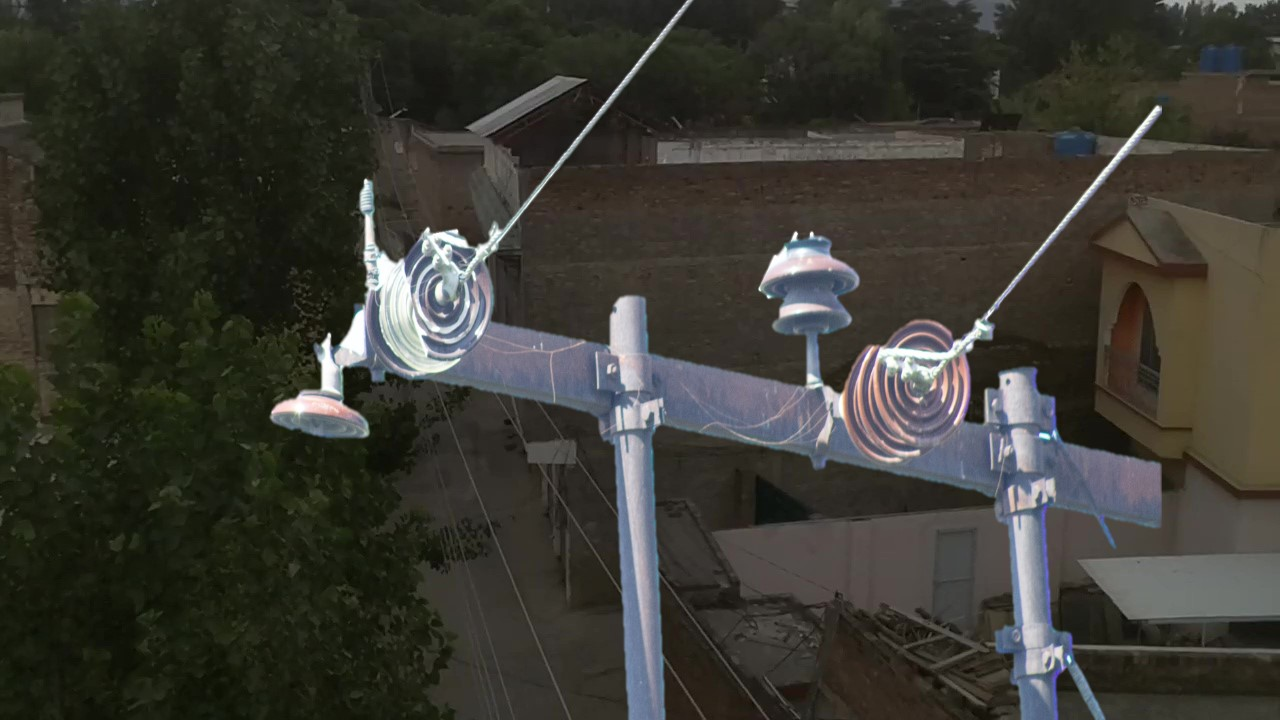defect_disc: (401, 221, 497, 362)
insulator_disc: (867, 315, 974, 448), (265, 379, 375, 454)
